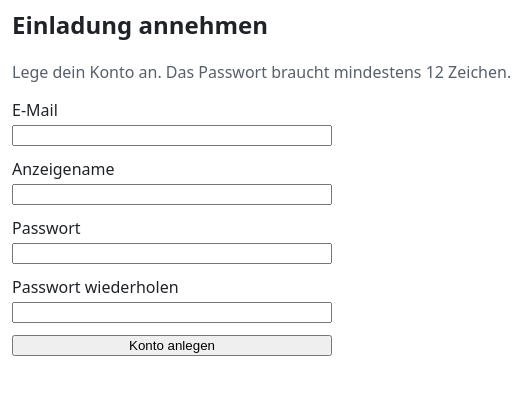
AcceptInvitationPage › checks that both passwords match before sending
In the field labelled "E-Mail": (172, 135) [12, 125, 332, 146], type " person-d@example.test "
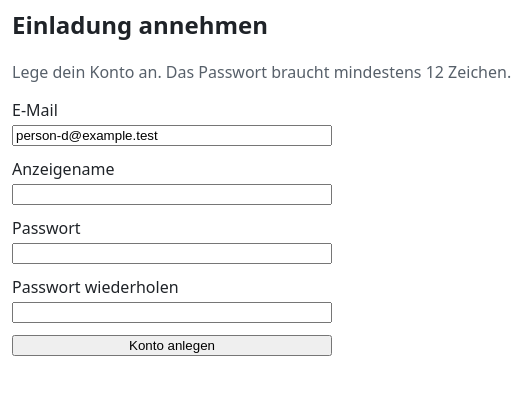
In the field labelled "Anzeigename": (172, 194) [12, 184, 332, 205], type "Person D"
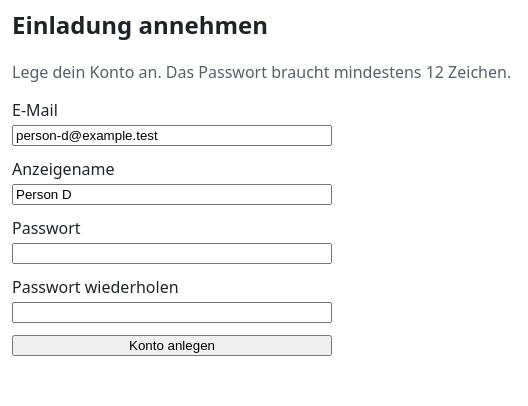
In the password field labelled "Passwort": (172, 253) [12, 243, 332, 264], type "test-only-password"
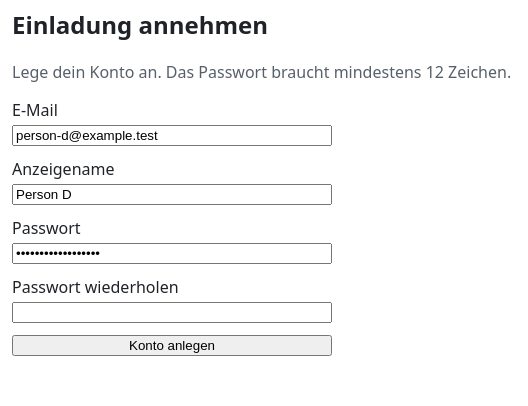
In the password field labelled "Passwort wiederholen": (172, 312) [12, 302, 332, 323], type "other-password"
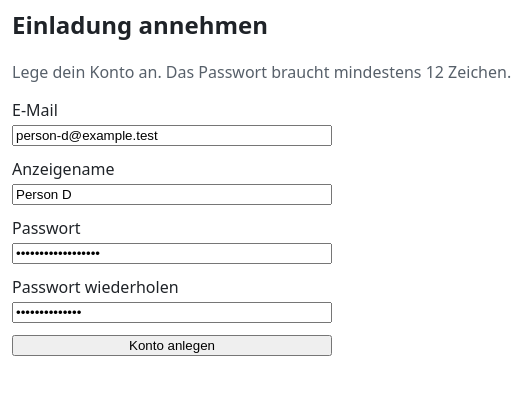
Click the button "Konto anlegen": click(172, 345) [12, 335, 332, 356]
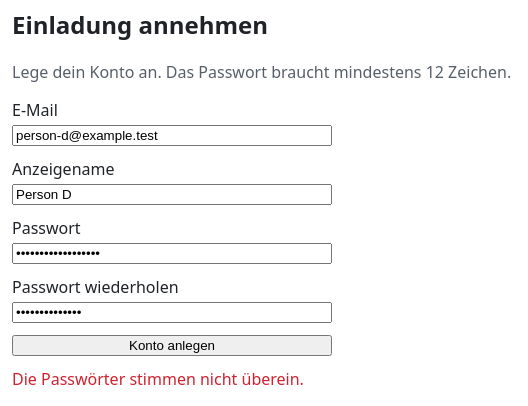
Result: the message reads "Die Passwörter stimmen nicht überein." at [12, 368, 304, 390]
